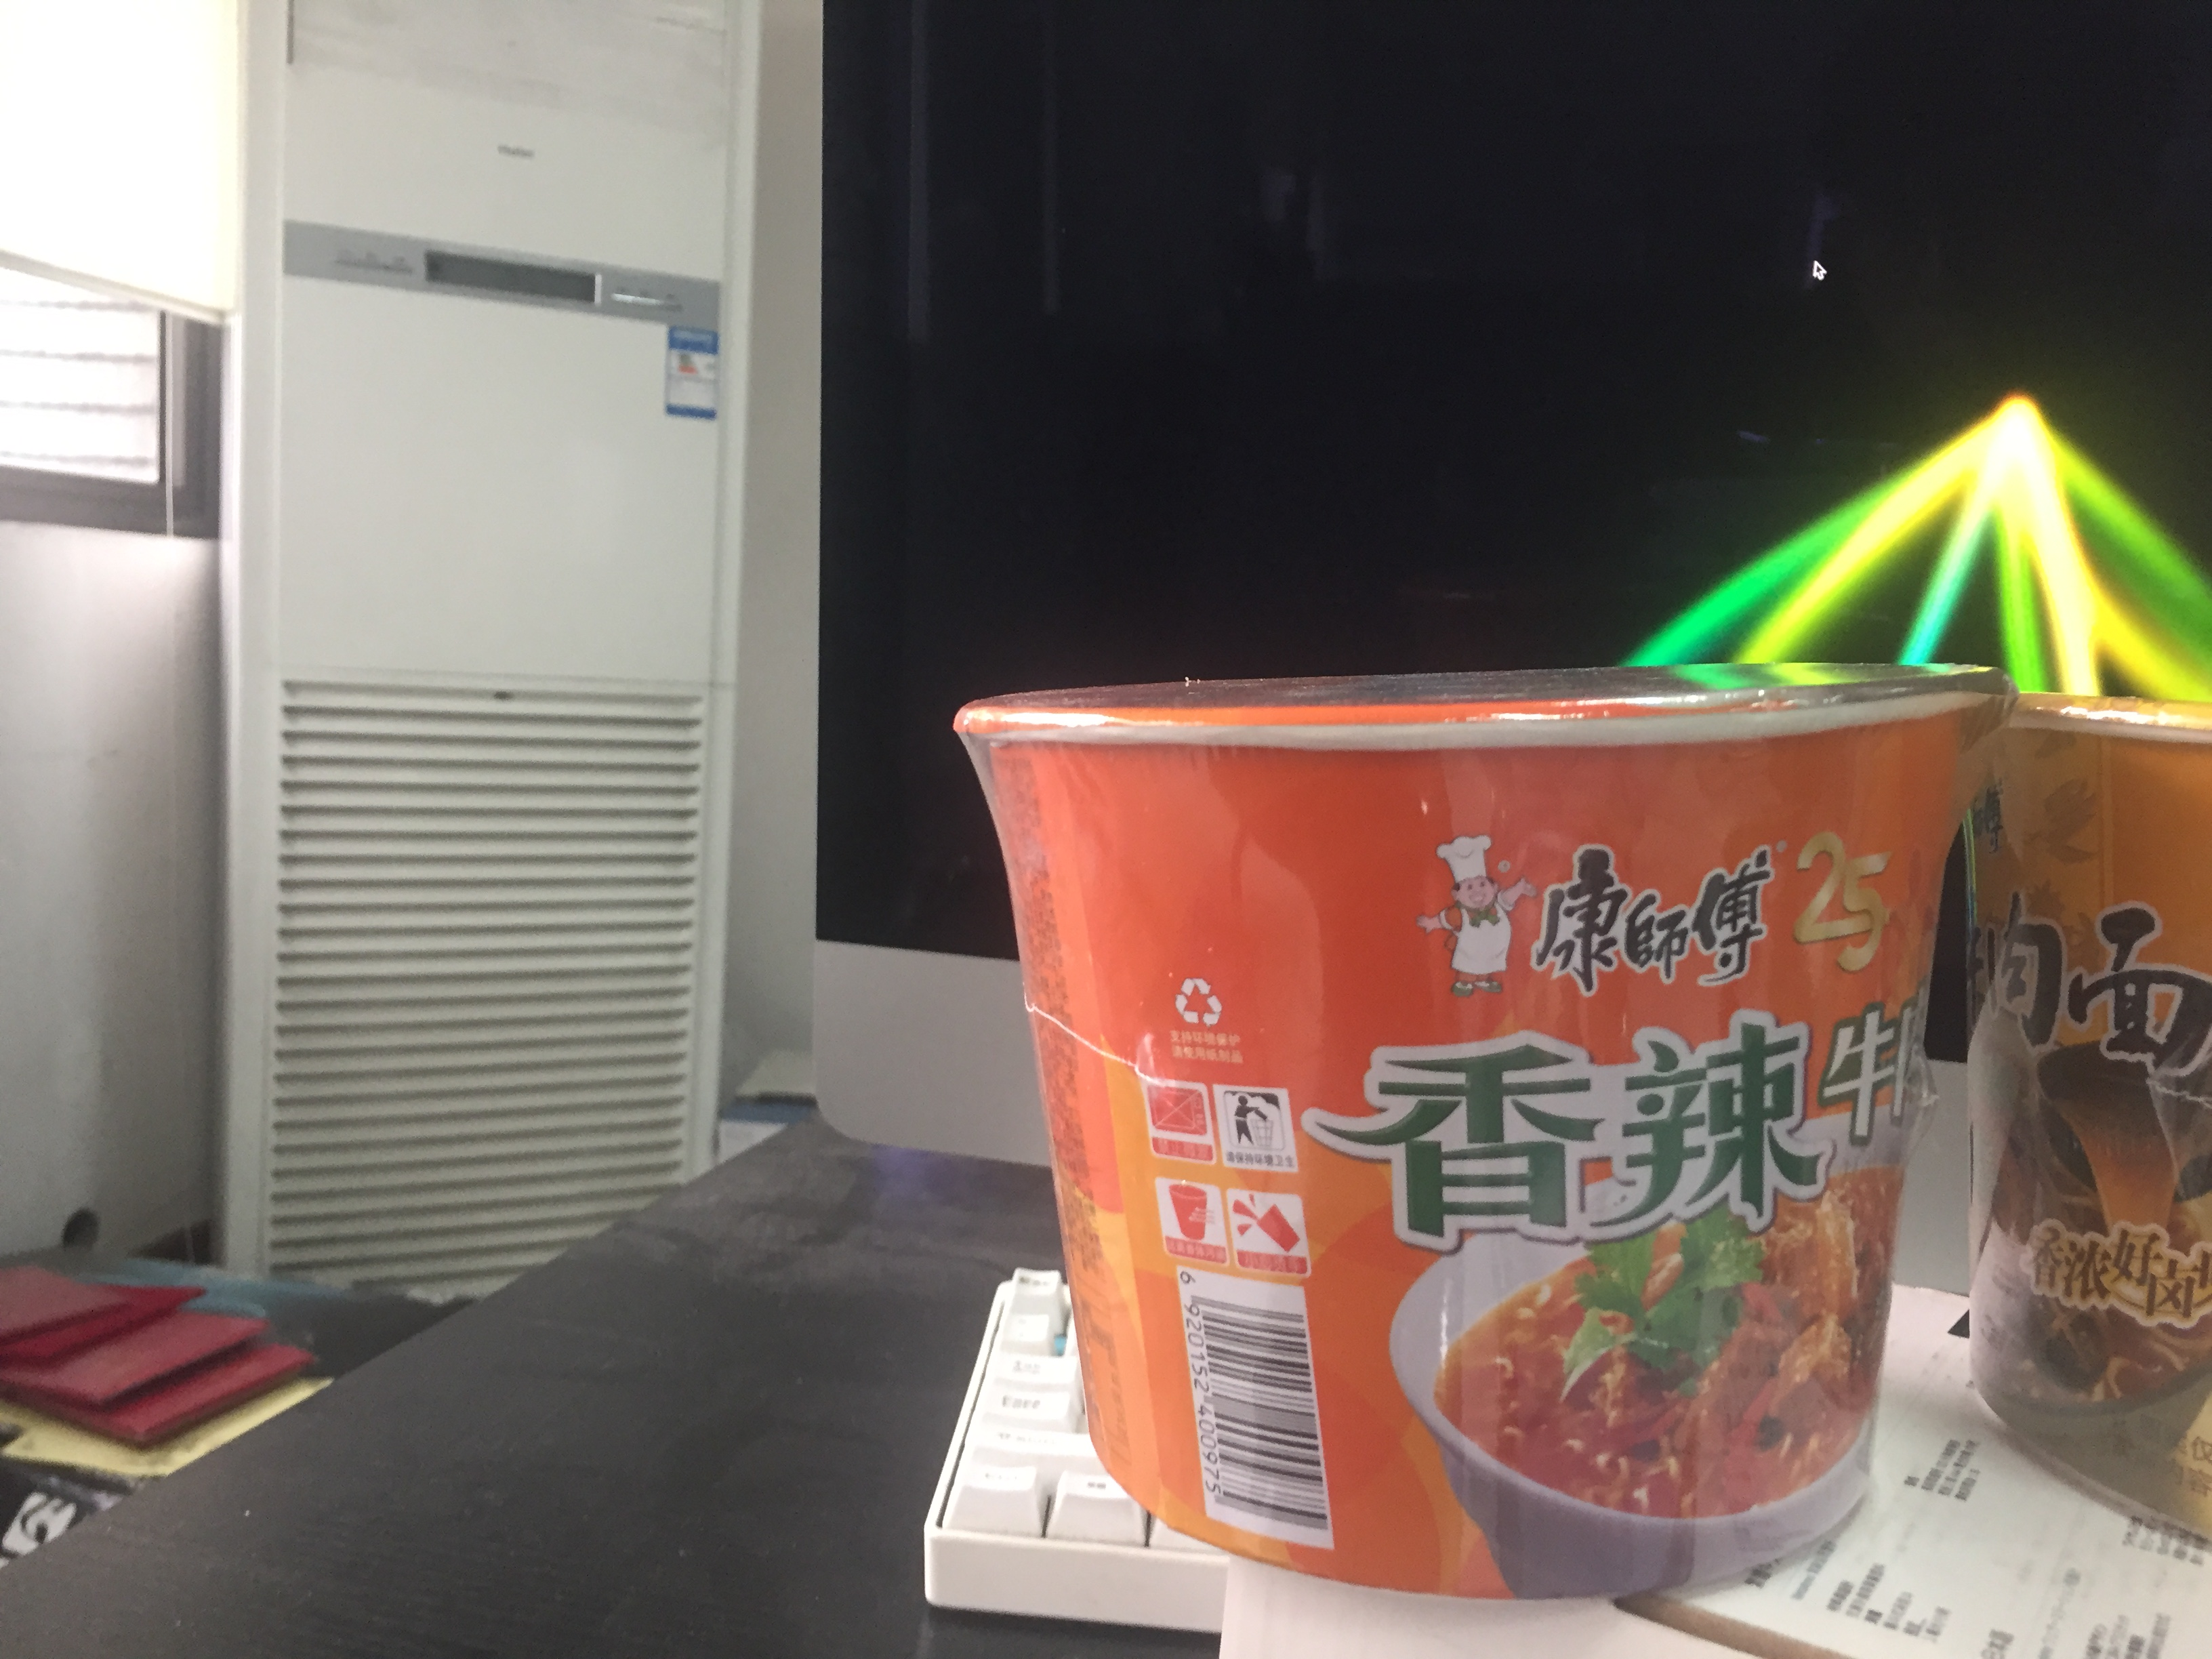xiangla: (951, 662, 2019, 1603)
